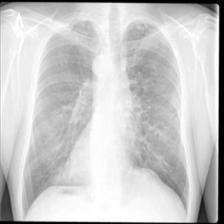tuberculosis: (20, 15, 196, 221)
